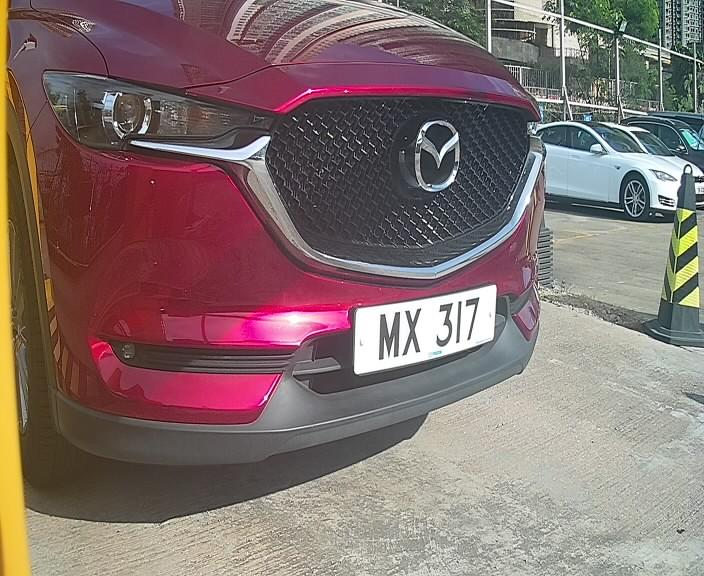Car: (1, 19, 623, 499)
License Plate: (340, 276, 507, 386)
